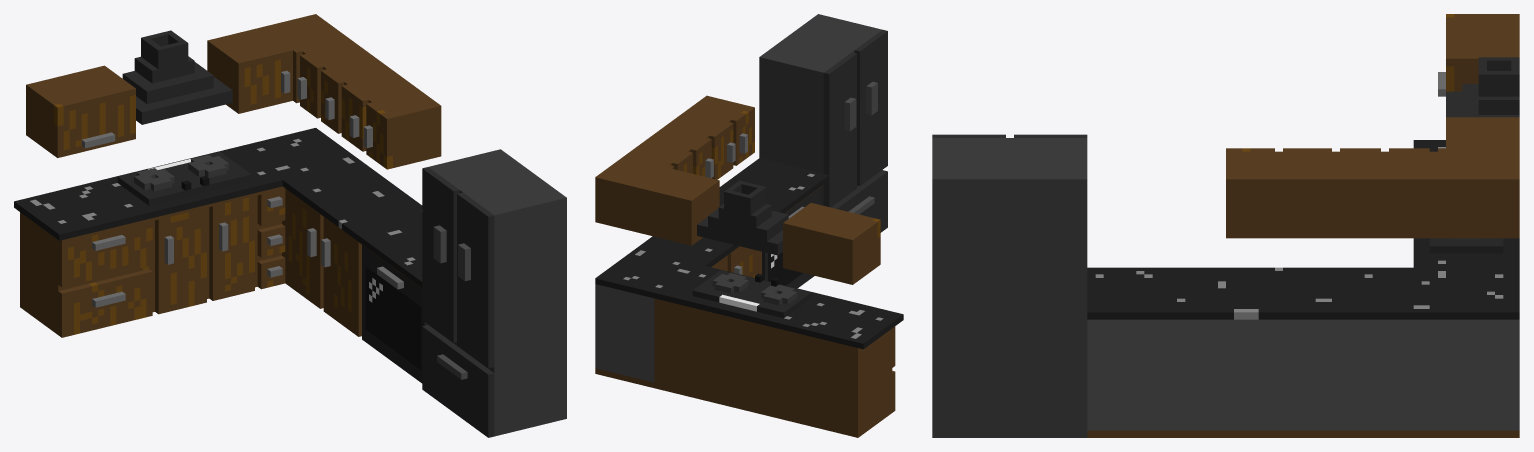
The model's file is Kitchen-0.obj.
3 renders of one model, left to right at view 1: azimuth 30°, elevation 25°; view 2: azimuth 150°, elevation 25°; view 3: azimuth 270°, elevation 25°, orthographic. The views are drawn at different scales.
Size of the model in its own units: 5 by 3.8 by 7.2.
1 material, 1 textured.
